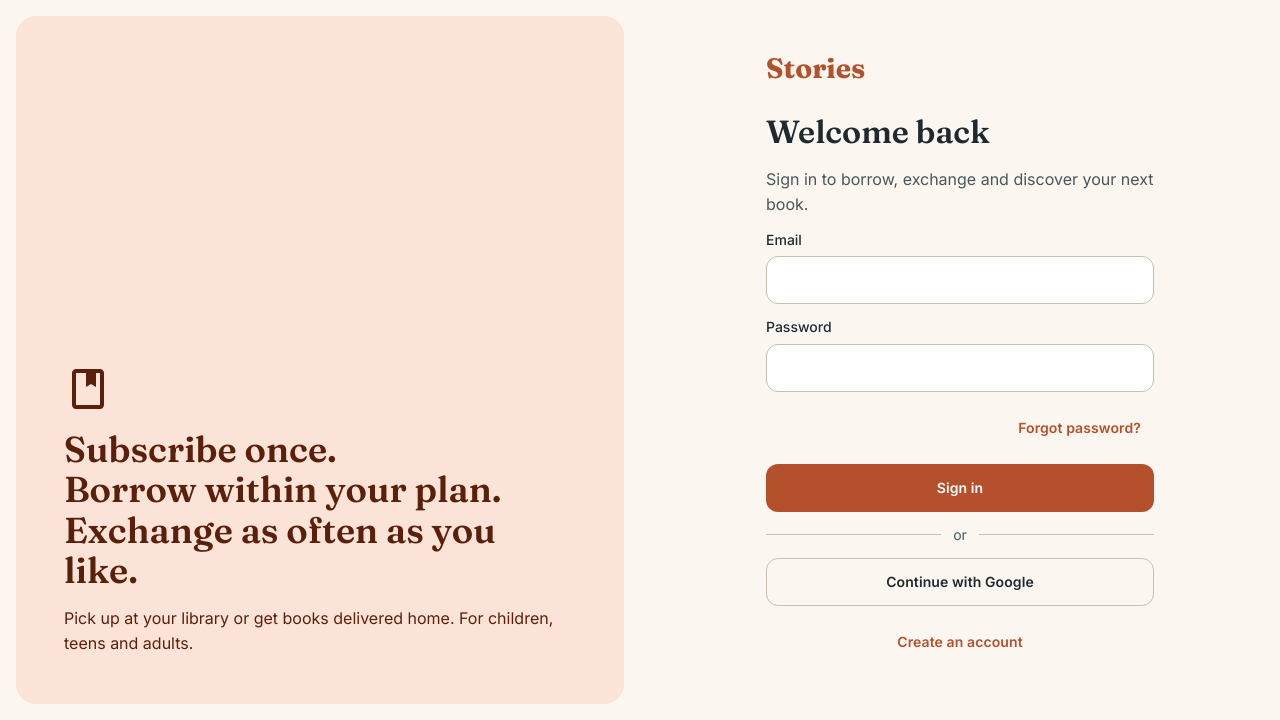
Test case: app flow › redirects to sign-in, signs in, then signs out
Check: the heading "Welcome back" is shown, box [766,112,990,151]
Type "reader@example.com" into the field labelled "Email". click: (960, 280)
box: [766,256,1154,304]
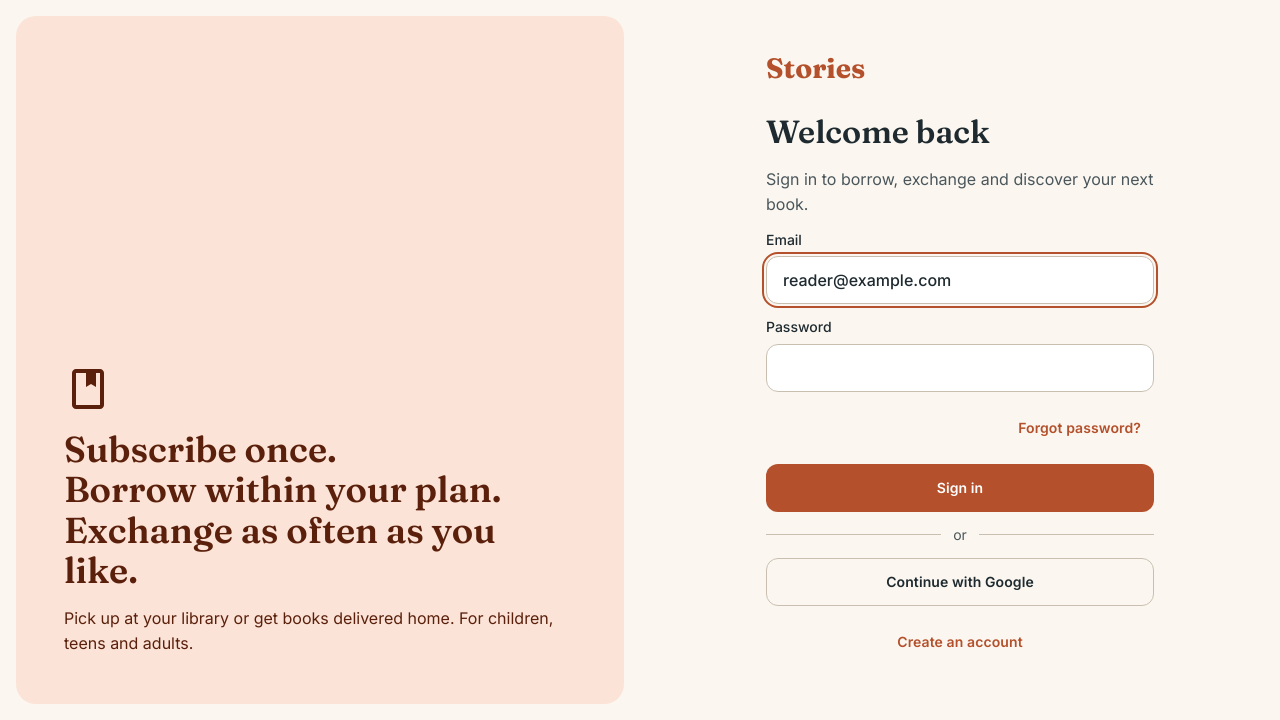
Type "correct-horse" into the password field labelled "Password". click: (960, 368)
box: [766,344,1154,392]
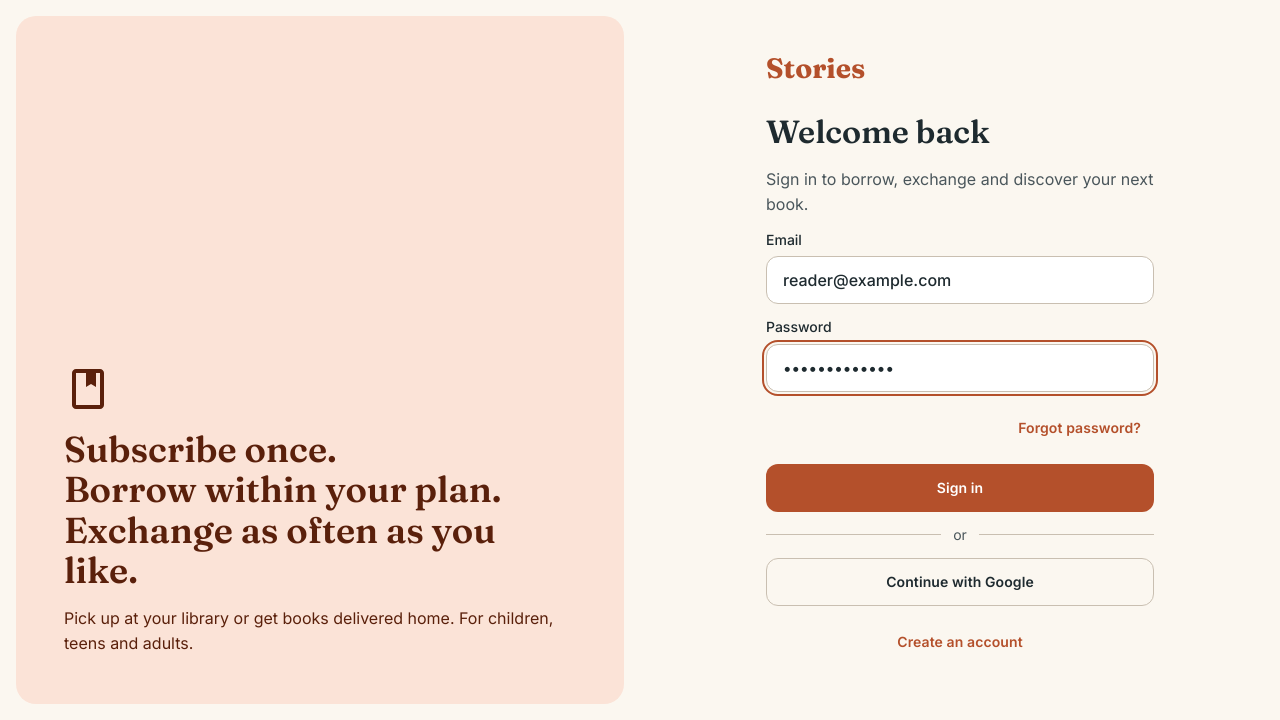
Click the button "Sign in". click: (960, 488)
box: [766,464,1154,512]
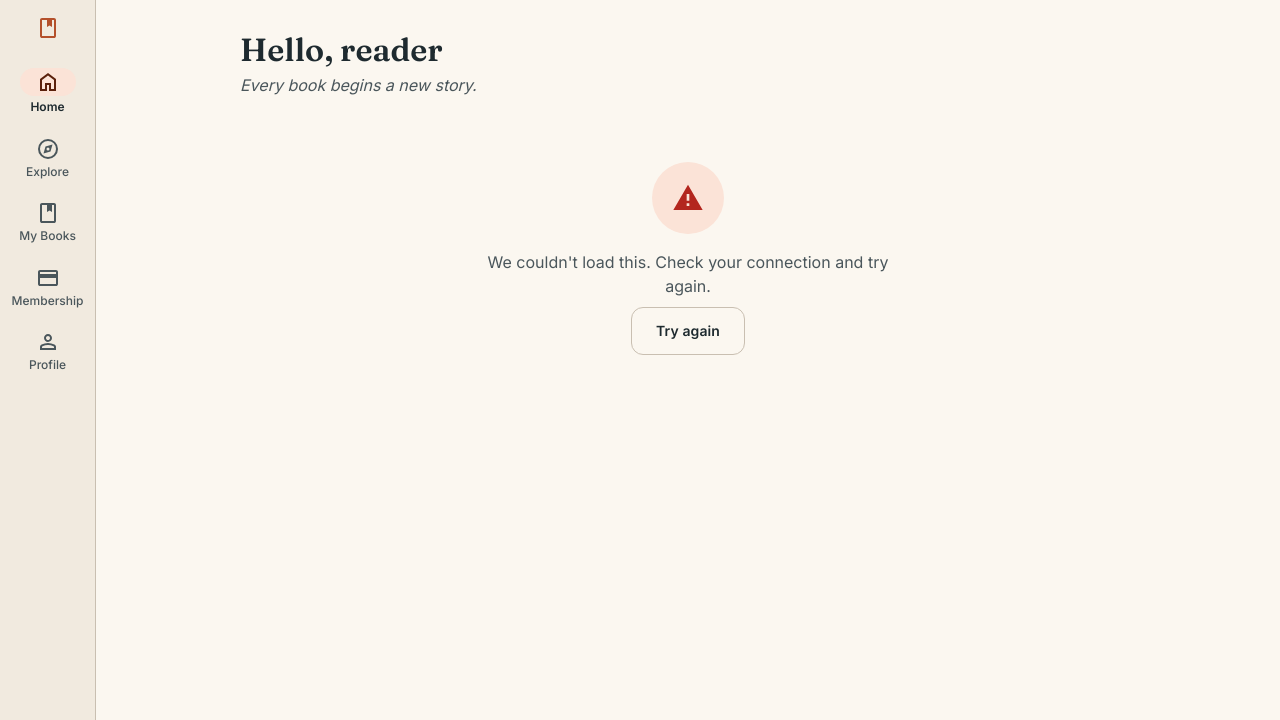
Check: the heading "Hello, reader" is shown, box [240,30,443,69]
Click the link "Profile". click: (48, 351)
box: [29,330,66,372]
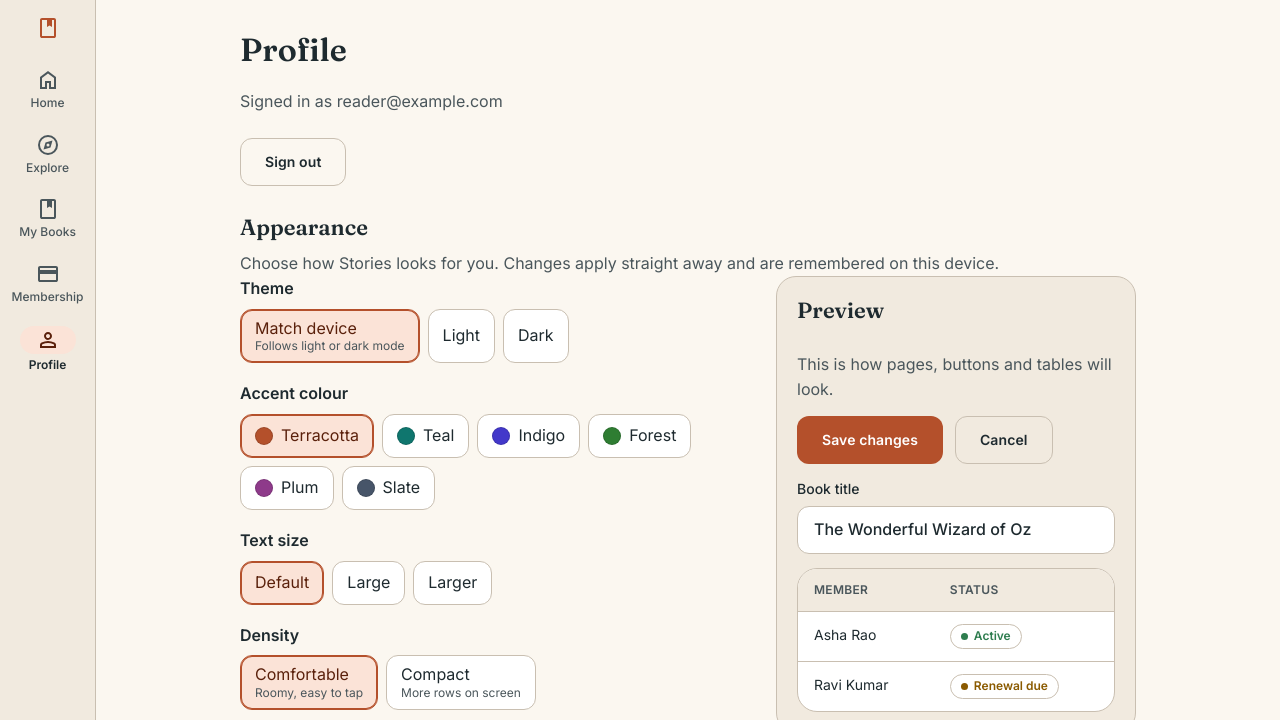
Click the button "Sign out". click: (293, 162)
box: [240,138,346,186]
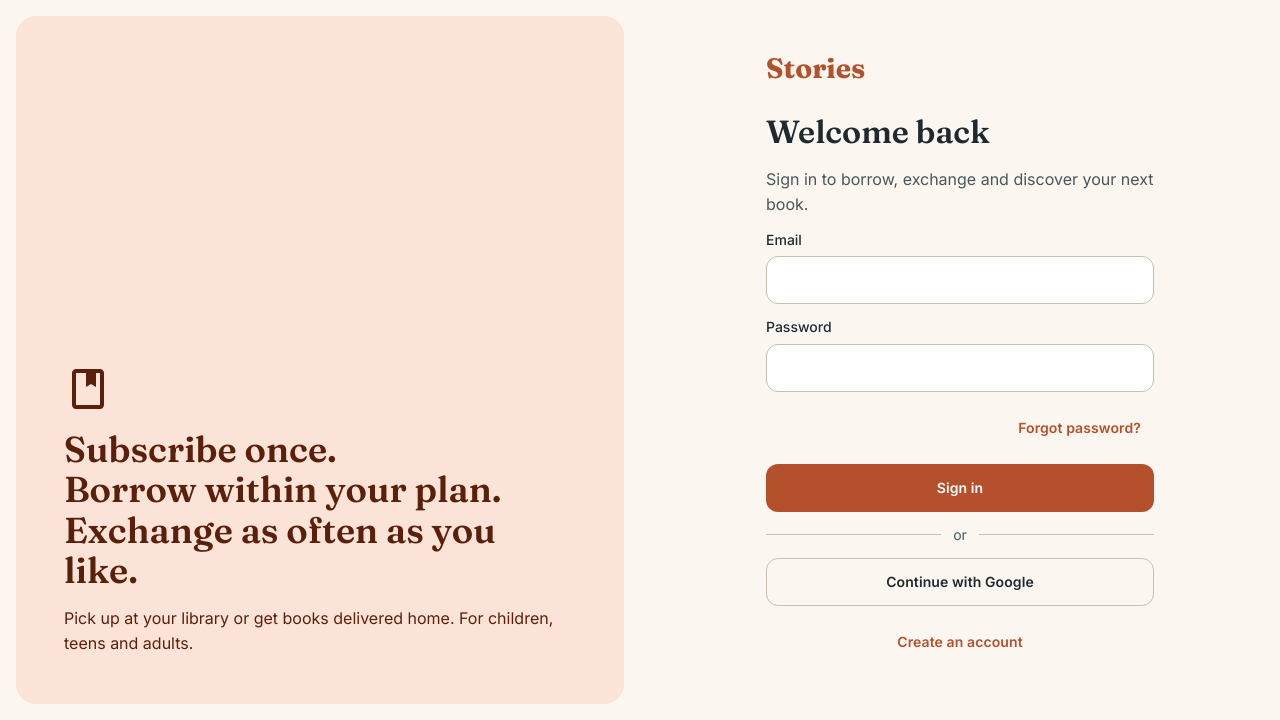
Check: the heading "Welcome back" is shown, box [766,112,990,151]
